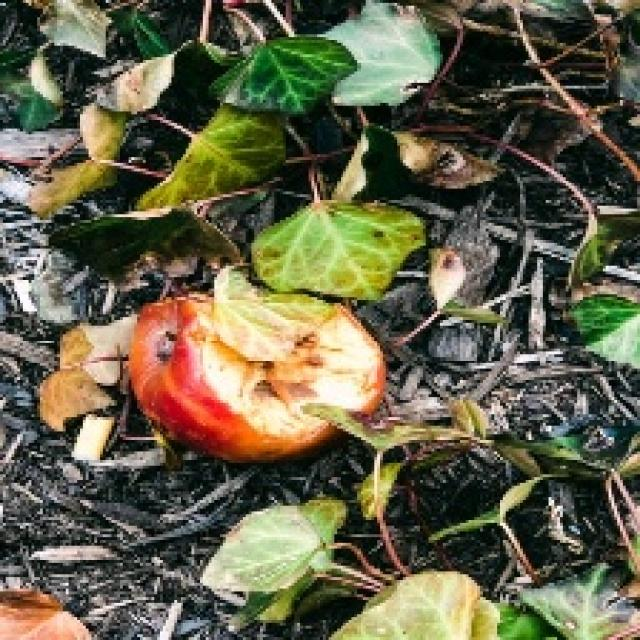rotten_apple: (136, 296, 382, 449)
